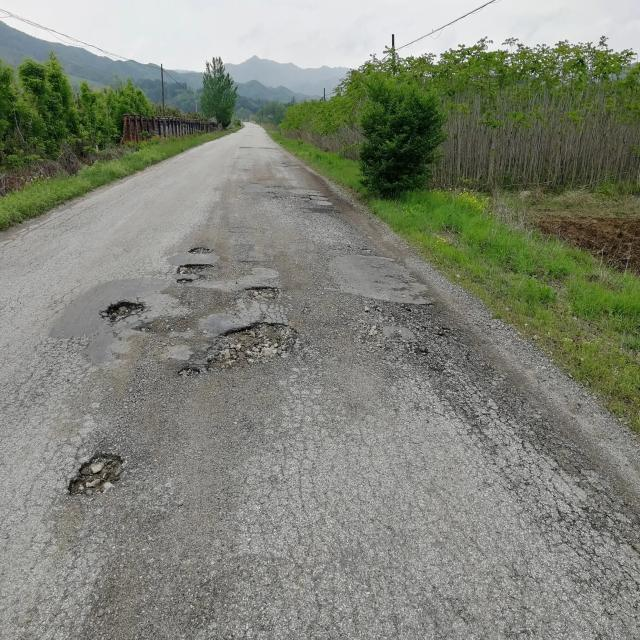Buraco: (201, 319, 303, 374), (63, 449, 131, 500), (96, 298, 150, 329), (242, 284, 281, 302), (175, 263, 216, 276), (175, 364, 202, 380), (187, 246, 215, 255), (176, 277, 195, 285)
